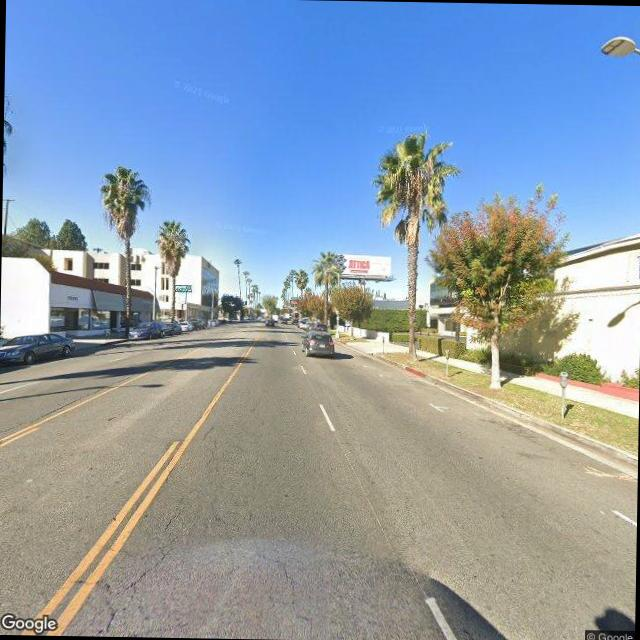pothole: (78, 511, 182, 636), (198, 420, 218, 465)
